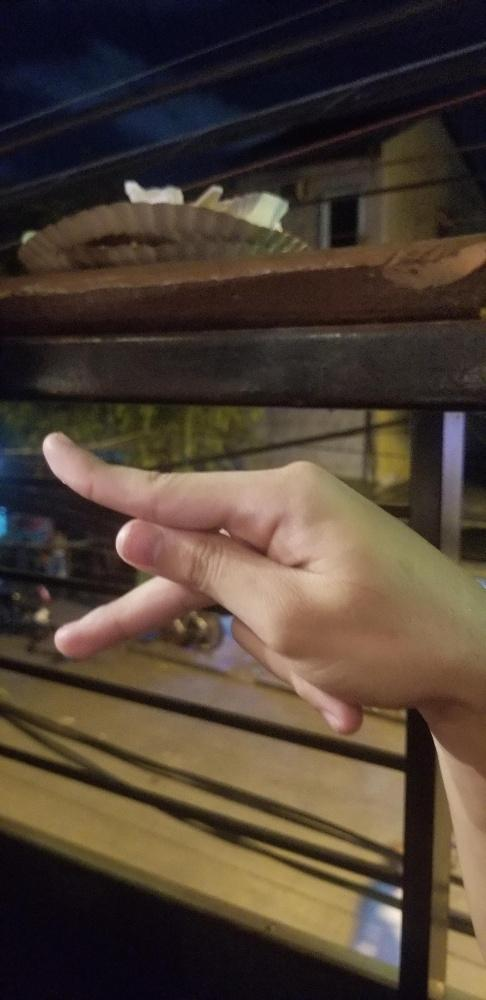p: (38, 424, 464, 737)
